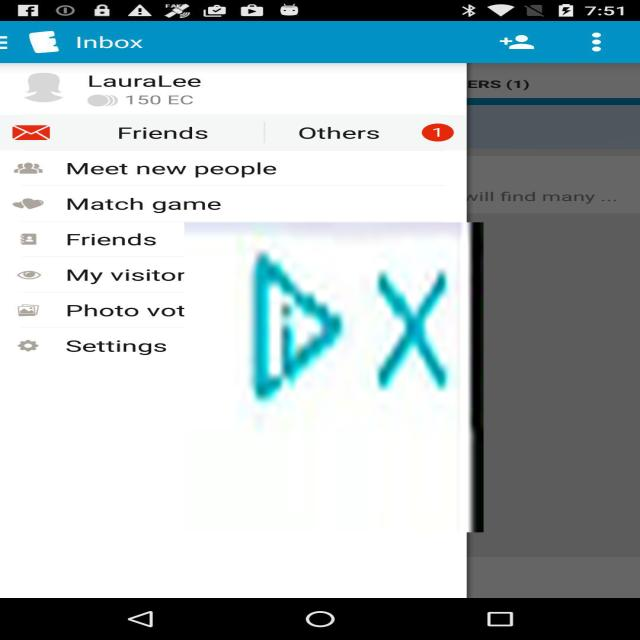sneaking: (184, 222, 484, 532)
